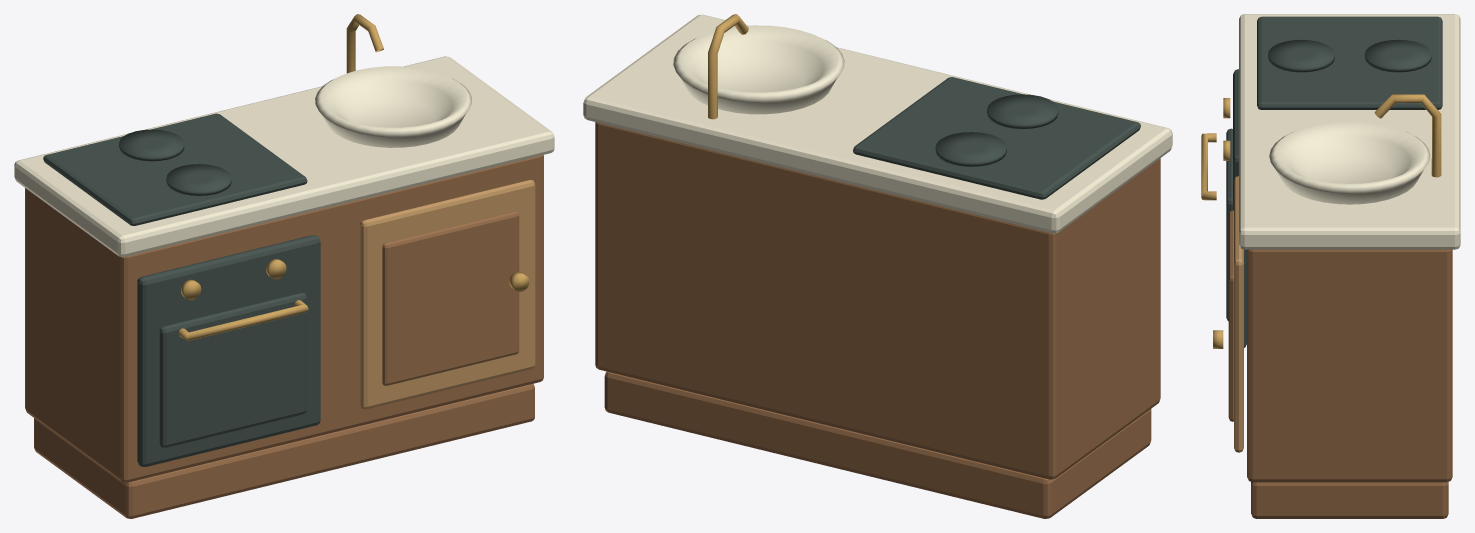
The model's file is compact-kitchen.glb.
3 views of the same model, side by side, from view 1: azimuth 30°, elevation 25°; view 2: azimuth 150°, elevation 25°; view 3: azimuth 270°, elevation 25° (orthographic). The views are drawn at different scales.
Parts seen in each view (by area): view 1: carcass, worktop, cupboard inset, plinth, oven door, oven surround, cupboard door, cast stove top, enamel sink, cast burner.001, cast burner, oven handle (+1 smaller); view 2: carcass, worktop, plinth, cast stove top, enamel sink, cast burner, cast burner.001, gooseneck tap; view 3: carcass, worktop, cast stove top, enamel sink, plinth, cupboard door, cast burner.001, cast burner, gooseneck tap, cupboard inset, oven surround, oven door (+1 smaller).
Boxes of the visible parts, left/top/right/bottom form: carcass: left=25, top=155, right=543, bottom=482; worktop: left=14, top=56, right=554, bottom=257; cupboard inset: left=382, top=211, right=519, bottom=385; plinth: left=34, top=383, right=534, bottom=518; oven door: left=159, top=293, right=306, bottom=447; oven surround: left=137, top=235, right=320, bottom=466; cupboard door: left=360, top=180, right=535, bottom=409; cast stove top: left=43, top=113, right=307, bottom=225; enamel sink: left=315, top=66, right=472, bottom=147; cast burner.001: left=119, top=129, right=184, bottom=161; cast burner: left=166, top=164, right=231, bottom=195; oven handle: left=178, top=300, right=308, bottom=341; carcass: left=595, top=122, right=1160, bottom=479; worktop: left=583, top=14, right=1172, bottom=233; plinth: left=604, top=371, right=1151, bottom=518; cast stove top: left=853, top=77, right=1140, bottom=199; enamel sink: left=673, top=25, right=844, bottom=114; cast burner: left=987, top=94, right=1058, bottom=128; cast burner.001: left=935, top=132, right=1006, bottom=166; gooseneck tap: left=708, top=14, right=748, bottom=119; carcass: left=1247, top=249, right=1452, bottom=482; worktop: left=1239, top=14, right=1460, bottom=249; cast stove top: left=1257, top=16, right=1442, bottom=109; enamel sink: left=1269, top=121, right=1430, bottom=204; plinth: left=1251, top=482, right=1448, bottom=518; cupboard door: left=1234, top=176, right=1243, bottom=452; cast burner.001: left=1364, top=39, right=1431, bottom=72; cast burner: left=1268, top=39, right=1334, bottom=72; gooseneck tap: left=1374, top=94, right=1441, bottom=177; cupboard inset: left=1228, top=210, right=1233, bottom=421; oven surround: left=1233, top=69, right=1246, bottom=347; oven door: left=1226, top=128, right=1232, bottom=321.
Bounding box in the file's own units: 1.28 × 1.04 × 0.6435.
